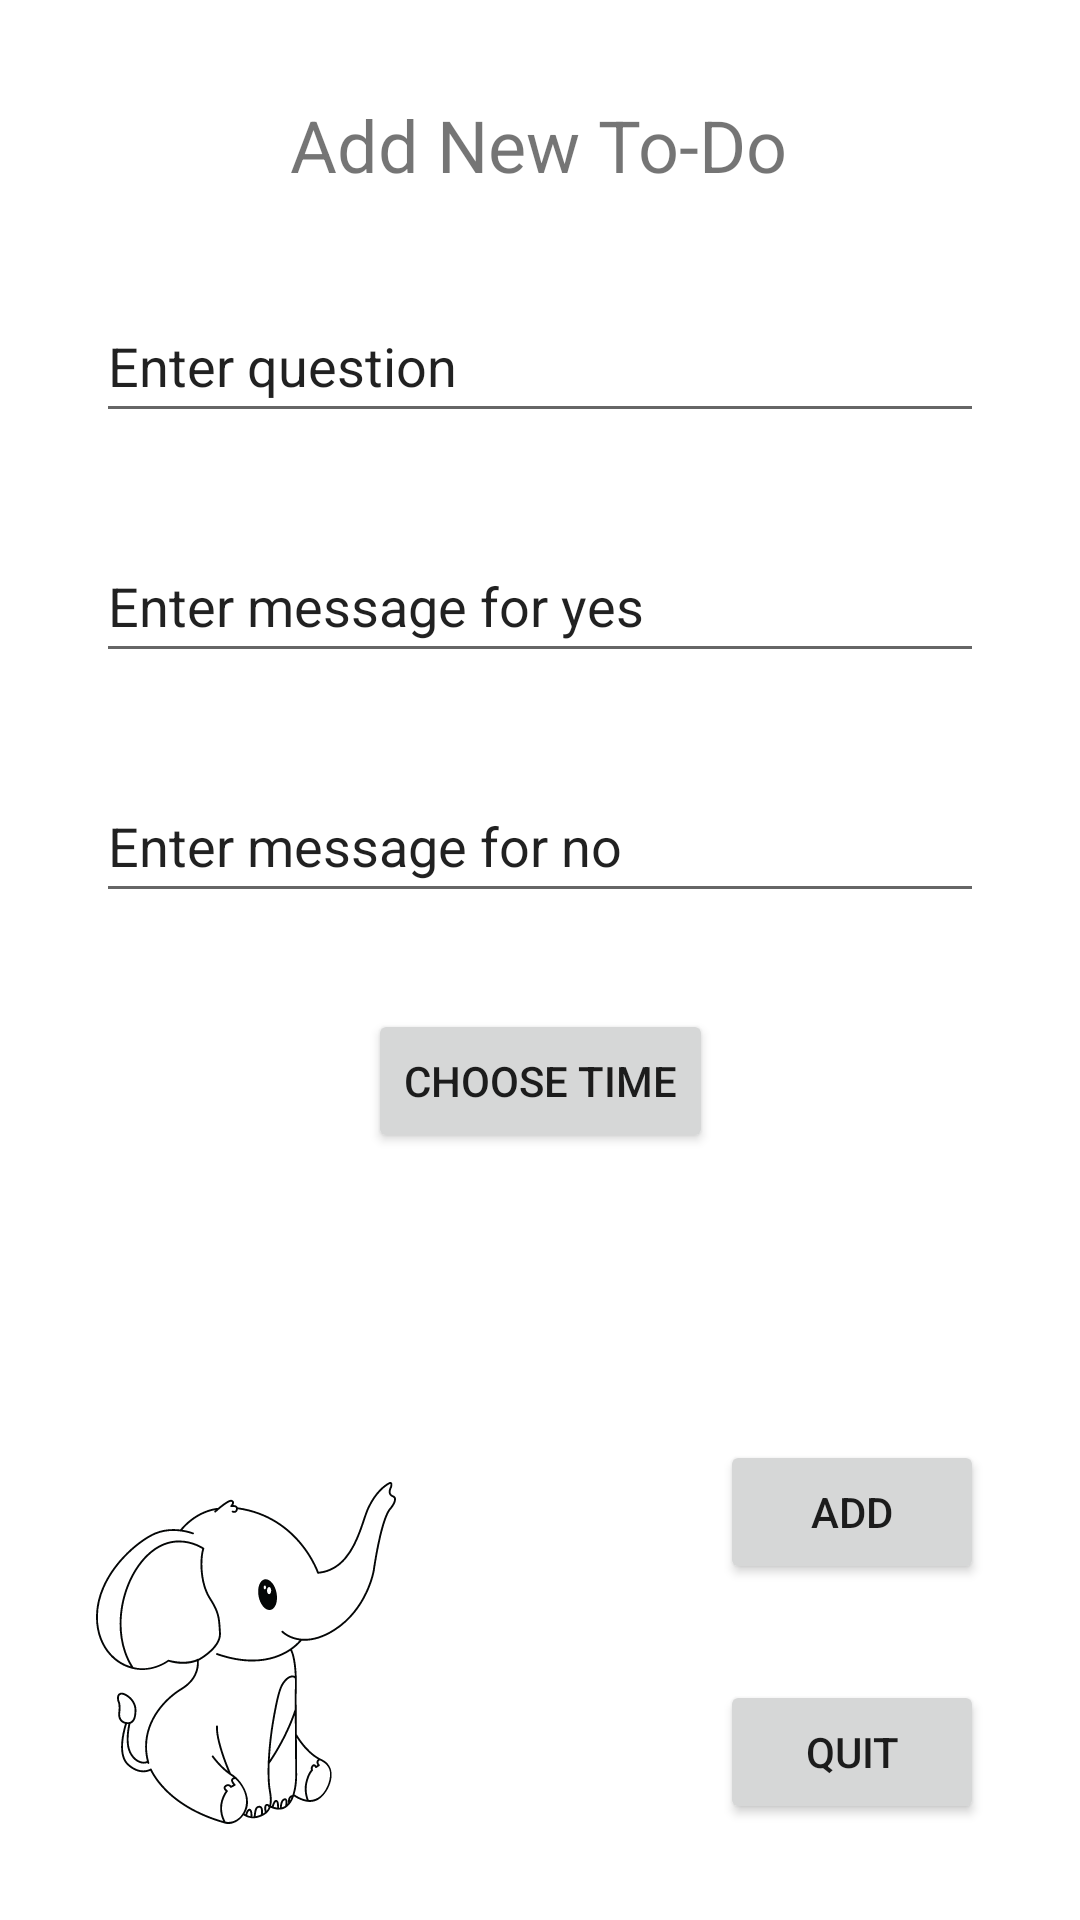

Named icons in this screenshot (1080 × 1920) and their bounding boxes, bbox=[x1, y1, x2, y2]:
elephant: bbox=[96, 1482, 396, 1824]
